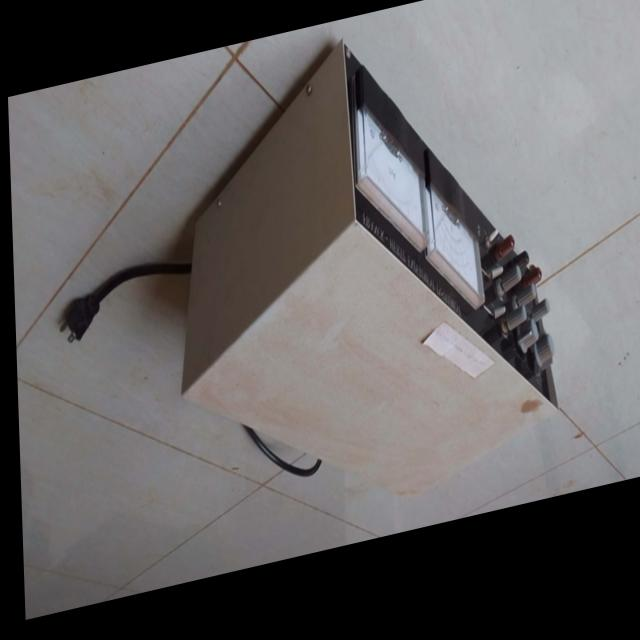Frank-Hertz Experiment Apparatus: (174, 0, 569, 530)
